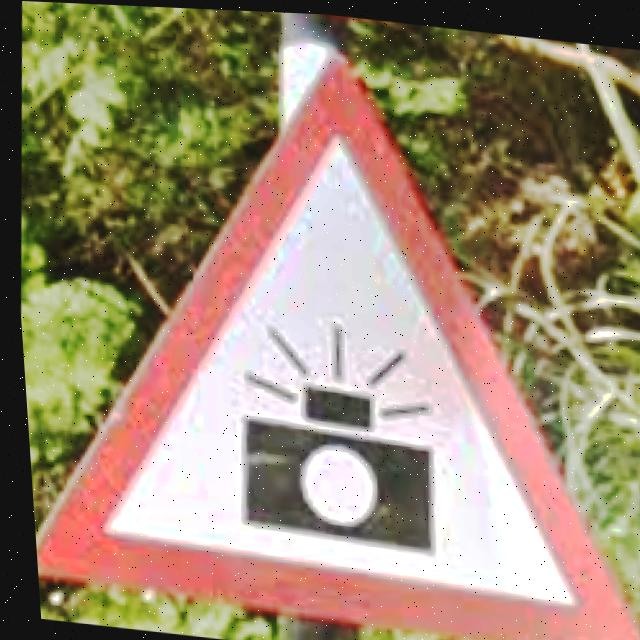speedcamera: (28, 53, 640, 640)
